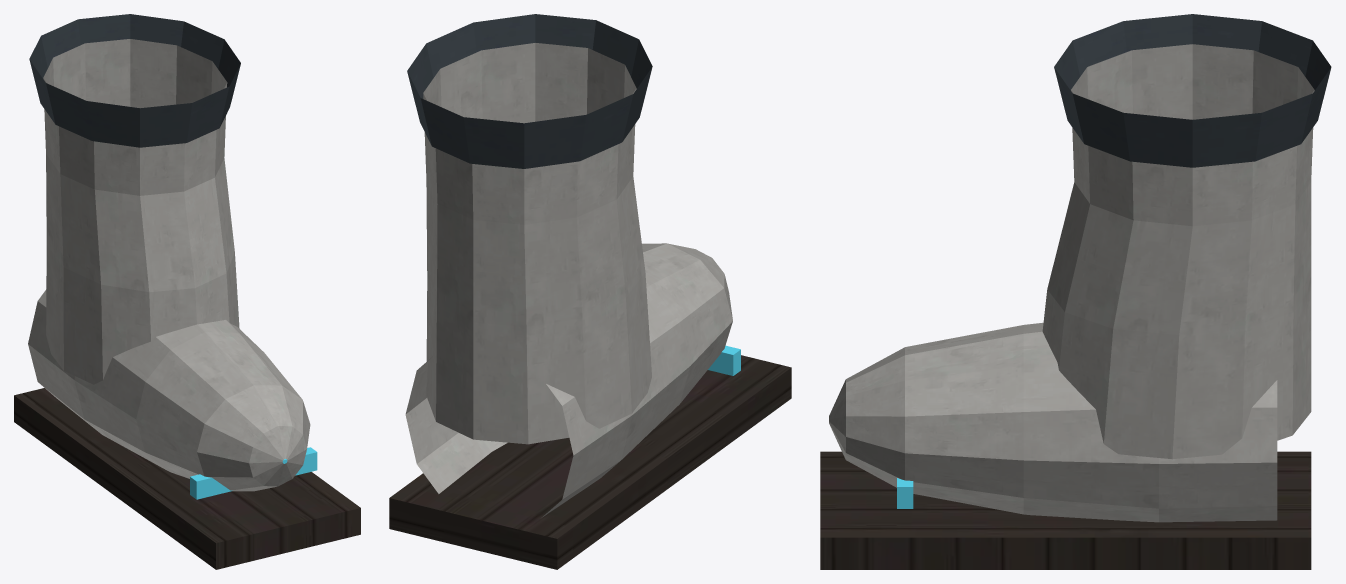
Rendered from eq_future_2_boot.glb.
The picture shows the model from 3 angles, left to right: view 1: azimuth 30°, elevation 25°; view 2: azimuth 150°, elevation 25°; view 3: azimuth 270°, elevation 25°; orthographic projection. The views are drawn at different scales.
Visible parts, largest first — view 1: eq_future_2_boot; view 2: eq_future_2_boot; view 3: eq_future_2_boot.
Boxes of the visible parts, box(x1,y1,x2,y2) form: eq_future_2_boot: box(14, 14, 360, 569); eq_future_2_boot: box(389, 14, 791, 569); eq_future_2_boot: box(820, 14, 1331, 569).
Size of the model in its own units: 0.1539 by 0.312 by 0.3141.
Materials: 4 (3 with a texture image).
